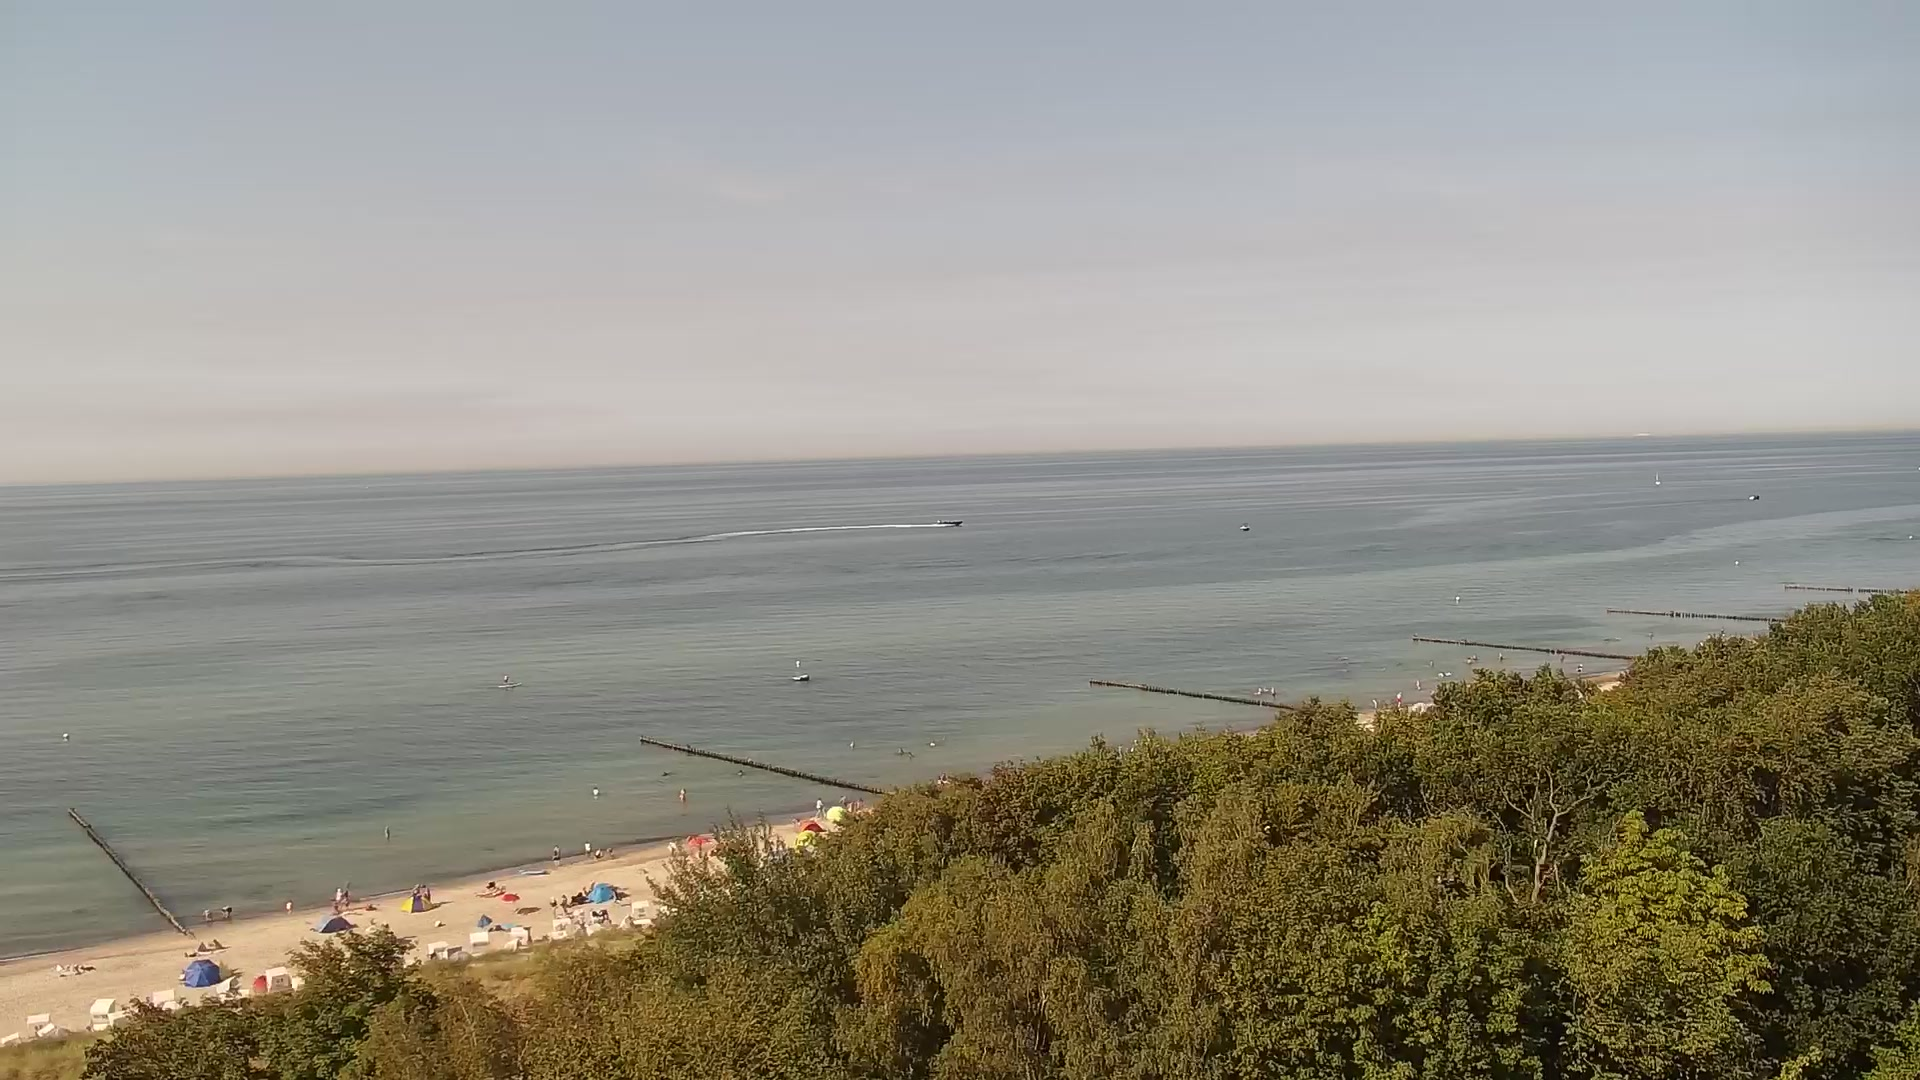human: (552, 844, 562, 867), (420, 883, 431, 901), (219, 903, 232, 918), (815, 797, 824, 816), (334, 888, 344, 905), (548, 895, 558, 914), (560, 893, 569, 913), (201, 906, 211, 920), (838, 794, 848, 808), (584, 840, 592, 859), (285, 899, 294, 914), (384, 825, 391, 841), (410, 883, 421, 896), (1395, 690, 1402, 707), (604, 846, 614, 857), (595, 847, 604, 858), (679, 787, 686, 802), (592, 786, 600, 798), (1465, 655, 1474, 664), (502, 673, 509, 685), (1560, 652, 1566, 663), (1498, 651, 1504, 661), (1576, 663, 1583, 673), (737, 769, 745, 776)
sea: (936, 516, 963, 526), (495, 680, 521, 689), (790, 671, 809, 681), (1654, 471, 1661, 485), (1238, 522, 1250, 532), (1747, 493, 1760, 501)
